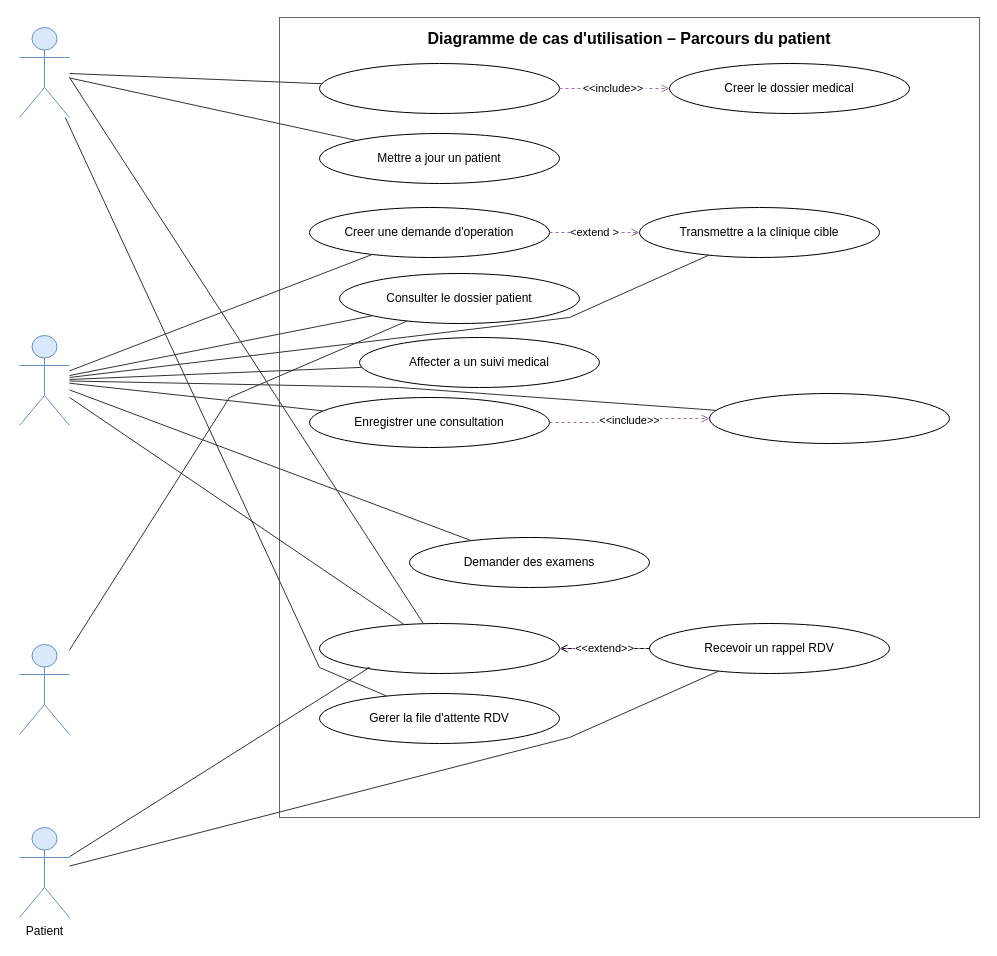
Image size: 997x956. Some labels were removed from this diagram. Here are the shapes that lost their labels. From the top down, the centre of each, then its label:
the point at 44,72: Secretaire
the point at 439,88: Enregistrer un patient
the point at 44,380: Medecin
the point at 829,418: Generer une ordonnance
the point at 439,648: Planifier un rendez-vous
the point at 44,689: Infirmier
